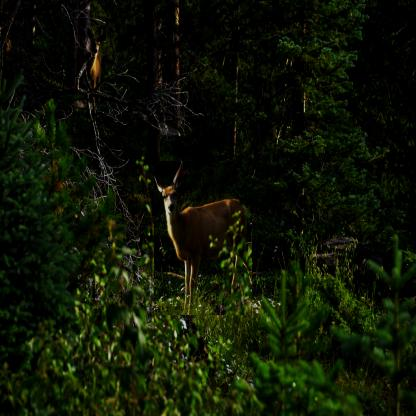Deer: (154, 162, 252, 316)
